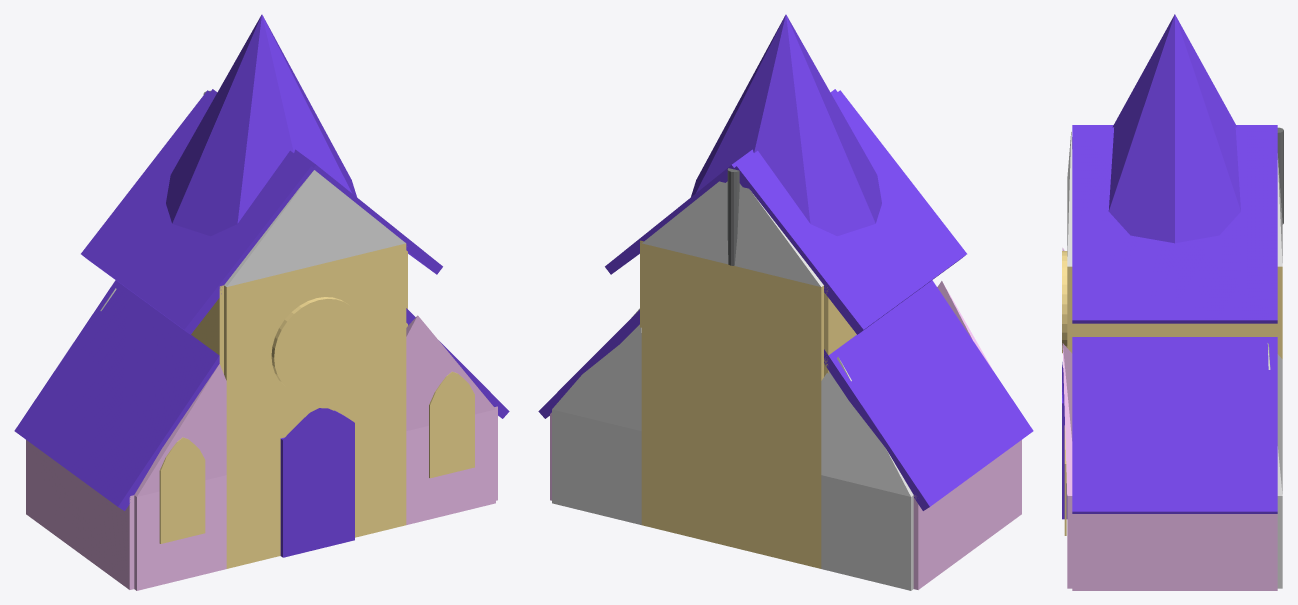
Rendered from Church.fbx.
The picture shows the model from 3 angles, left to right: view 1: azimuth 30°, elevation 25°; view 2: azimuth 150°, elevation 25°; view 3: azimuth 270°, elevation 25°; orthographic projection.
Parts seen in each view (by area): view 1: Church; view 2: Church; view 3: Church.
Part boxes in pixels (bbox=[...]): Church: bbox=[14, 14, 509, 590]; Church: bbox=[538, 14, 1033, 590]; Church: bbox=[1062, 14, 1283, 590].
Size of the model in its own units: 8.72 by 10.5 by 4.32.
